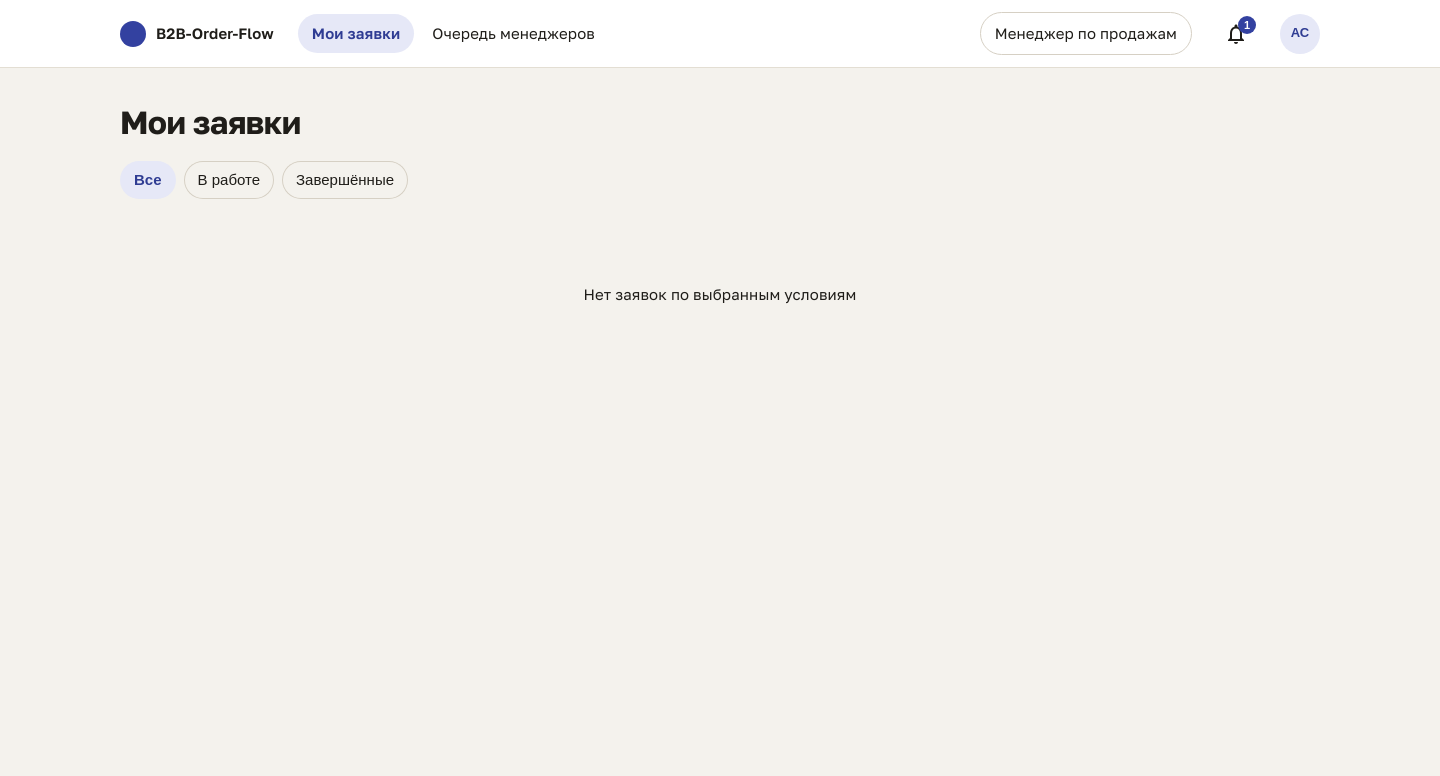
UI-14. Колокольчик › клик открывает карточку и отмечает уведомление прочитанным
The image size is (1440, 776).
Click the button with test id "notifications-bell".
click(1236, 34)  # box [1216,14,1256,54]
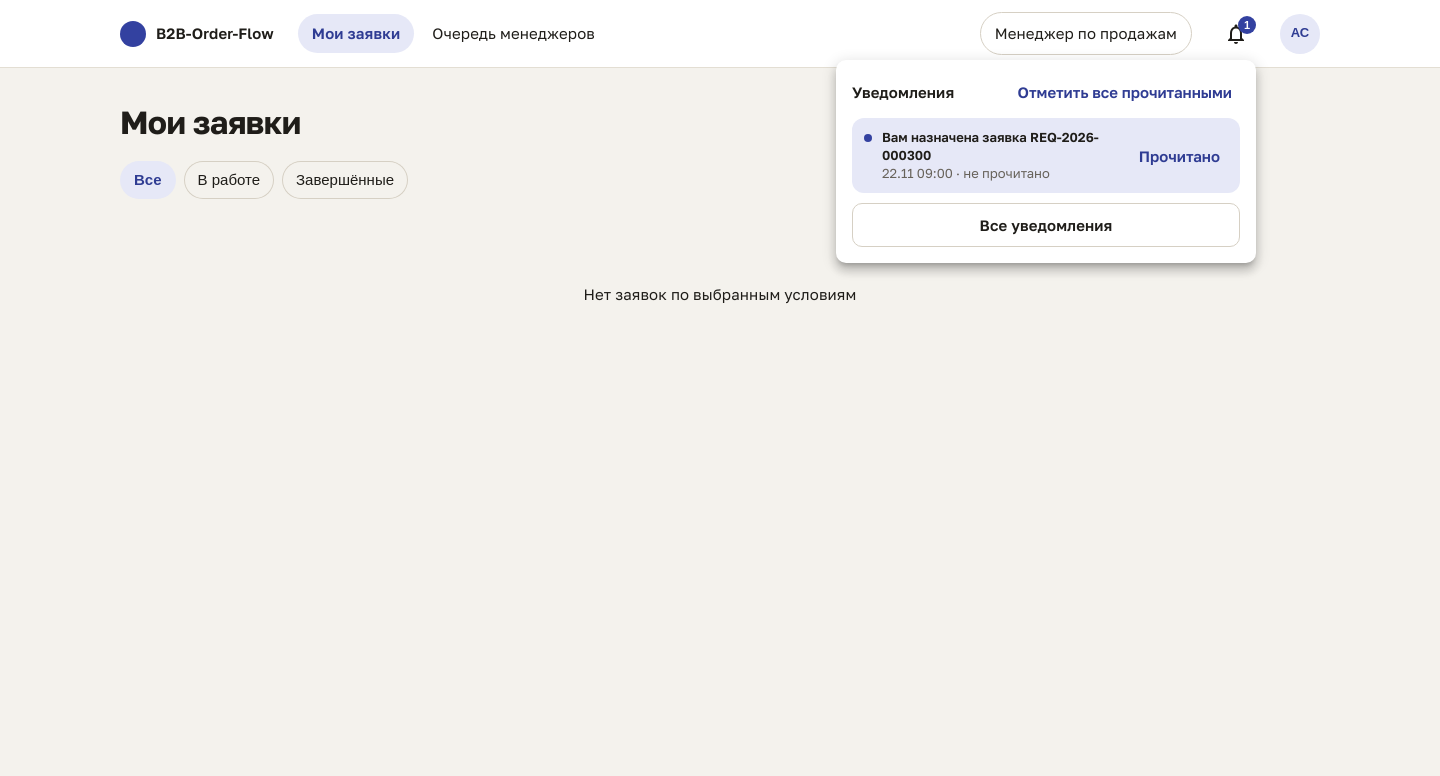
Click the text "Вам назначена заявка REQ-2026-000300".
click(1002, 146)  # box [882,128,1123,164]
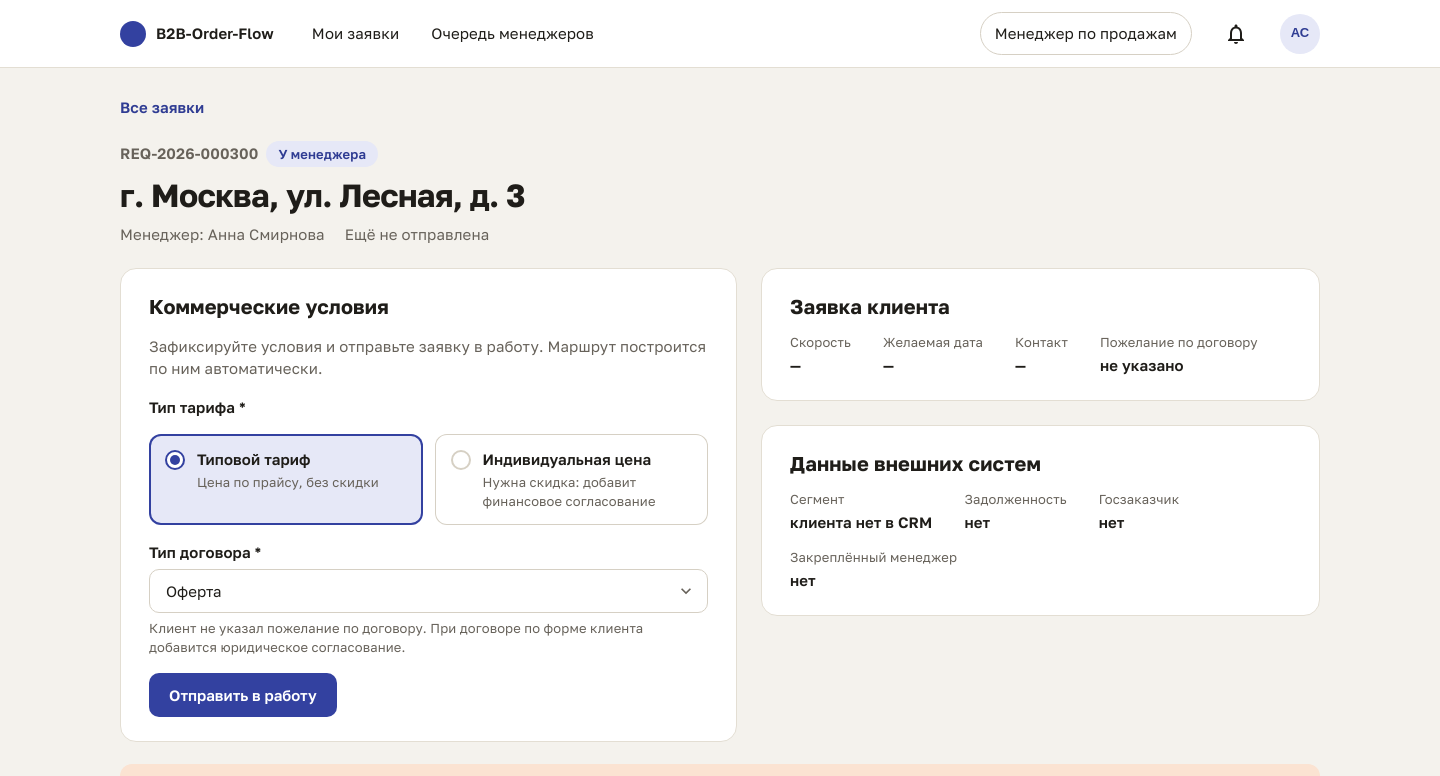
Expected: the text with test id "notifications-badge" is gone
